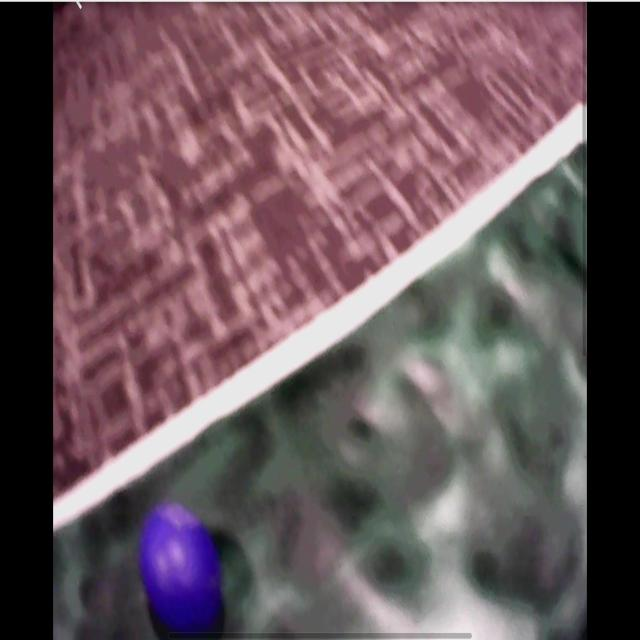ball: (141, 505, 220, 629)
